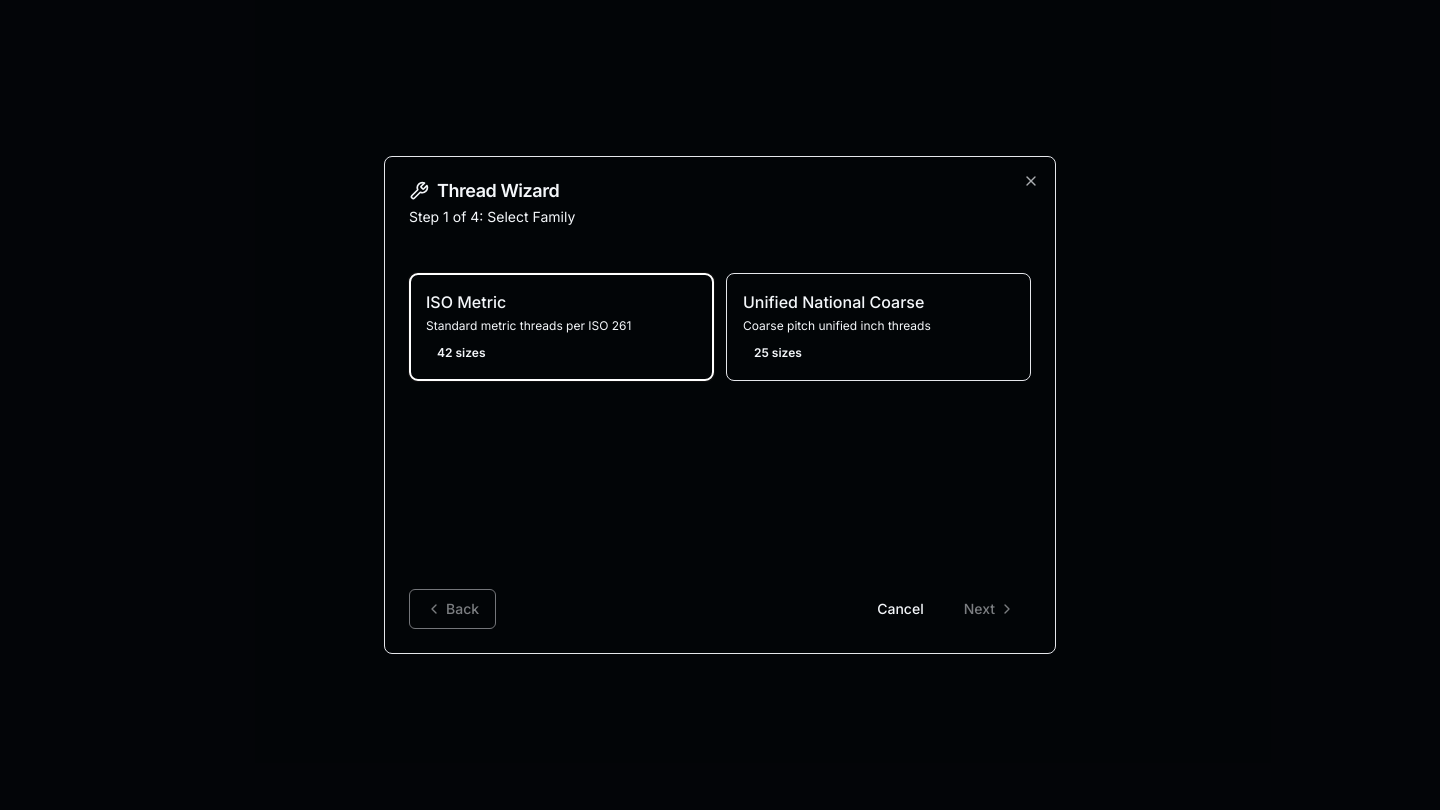
Test: ThreadWizard › enables next button after family selection
Click the button with test id "family-iso_metric" at (562, 327), box [409,273,714,381]
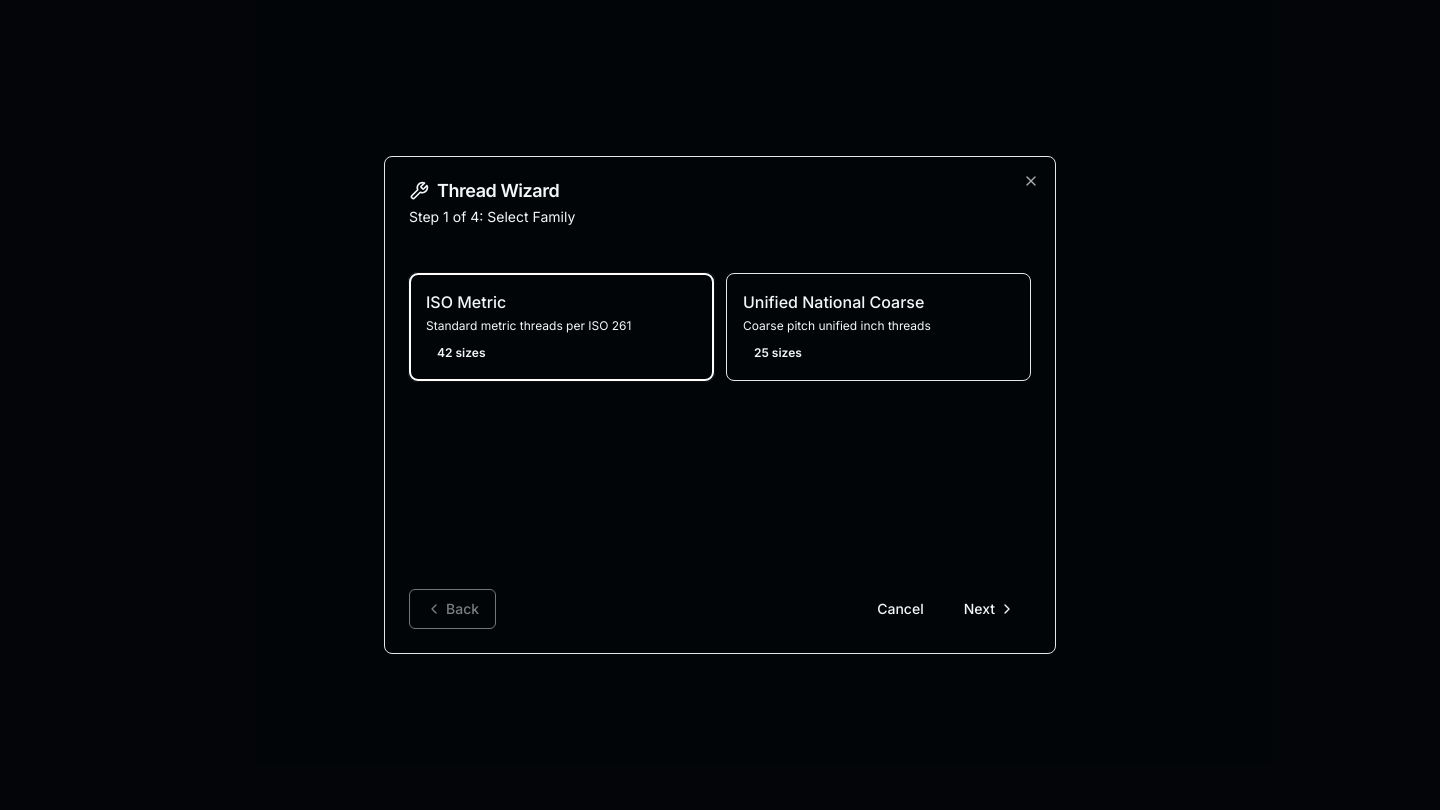
Expected: the button with test id "wizard-next" is enabled, [948,589,1031,629]
